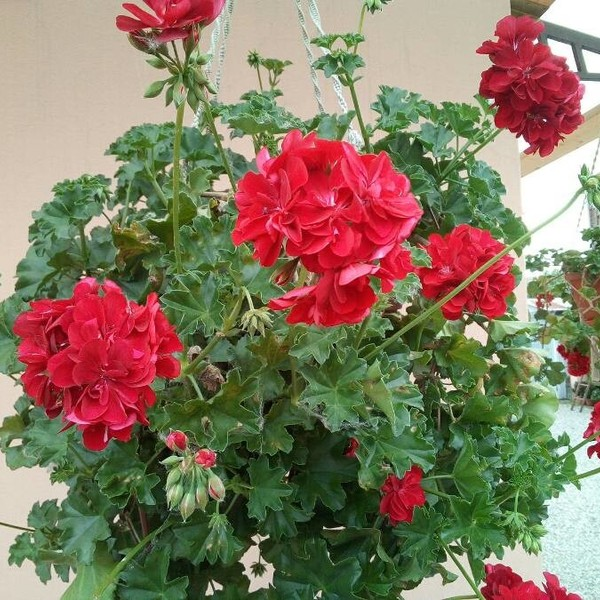obstacle: (26, 45, 566, 578)
